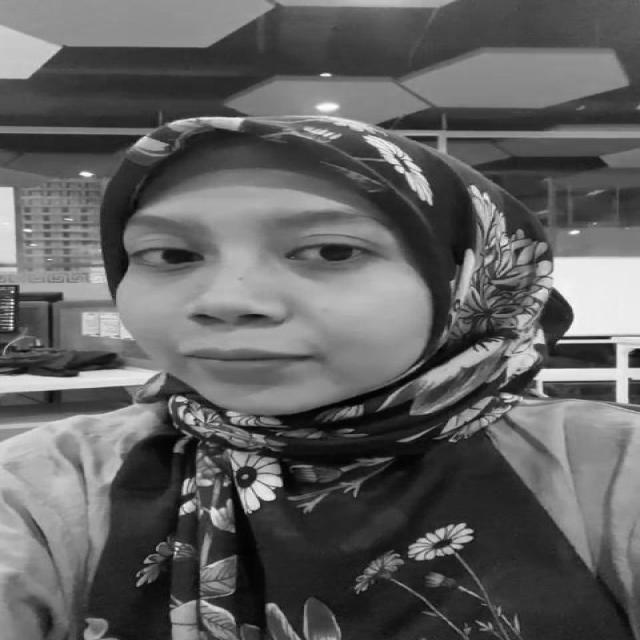real: (113, 172, 449, 415)
